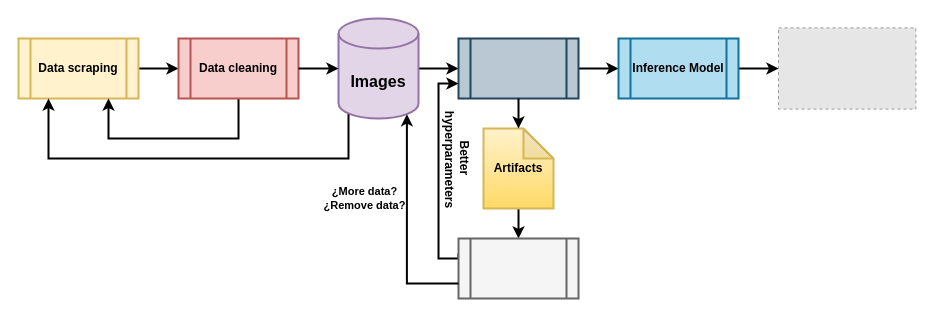
The diagram is 933 pixels wide and 316 high, and some of its shapes have lost their labels. Grey dashed boxes stand in for pictures. The shapes that lost their labels are listed below. From the top down, each one's box as (x1, y1, x2, y2) in pixels, then its label:
(457, 37, 579, 99): Training model
(457, 237, 579, 299): MLflow
